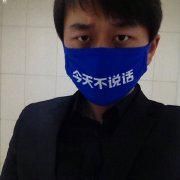OK: (64, 25, 152, 104)
